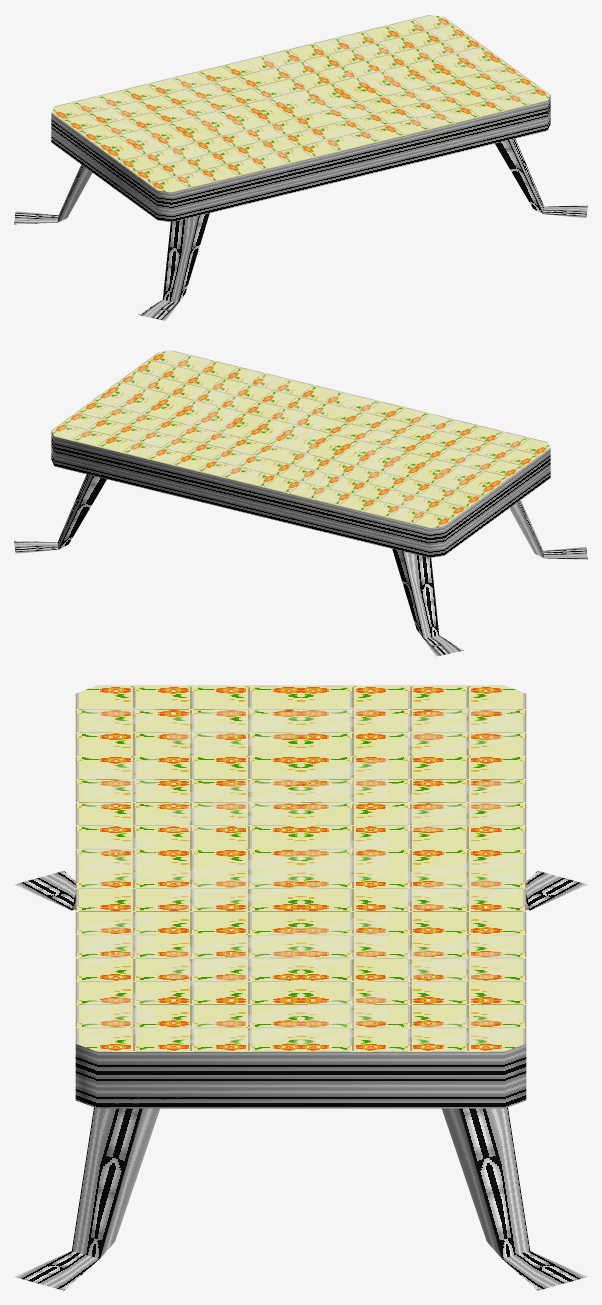
3 renders of one model, top to bottom at view 1: azimuth 30°, elevation 25°; view 2: azimuth 150°, elevation 25°; view 3: azimuth 270°, elevation 25°, orthographic. The views are drawn at different scales.
Visible parts, largest first — view 1: 3903kg3_gs05; view 2: 3903kg3_gs05; view 3: 3903kg3_gs05.
Boxes of the visible parts, <box> form: 3903kg3_gs05: <box>14,14,587,320</box>; 3903kg3_gs05: <box>14,350,587,656</box>; 3903kg3_gs05: <box>14,685,587,1290</box>.
Bounding box in the file's own units: 1.87 × 0.4468 × 1.08.
Materials: 3 (3 with a texture image).
